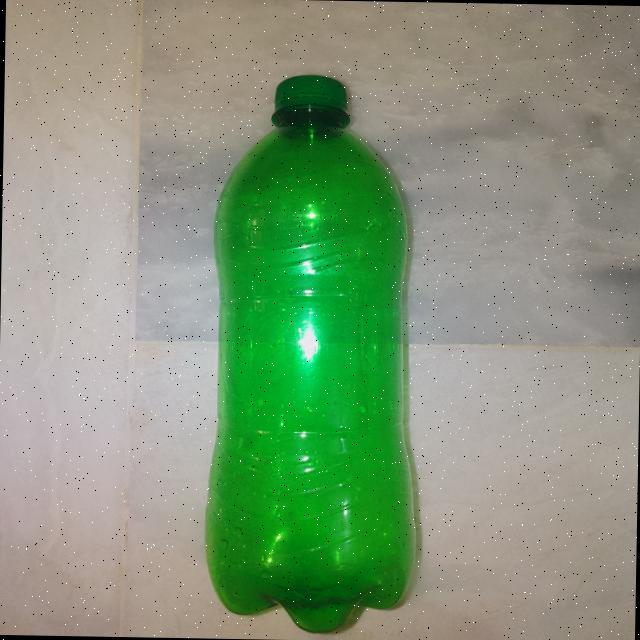bottle: (206, 62, 445, 636)
cap: (268, 72, 358, 122)
